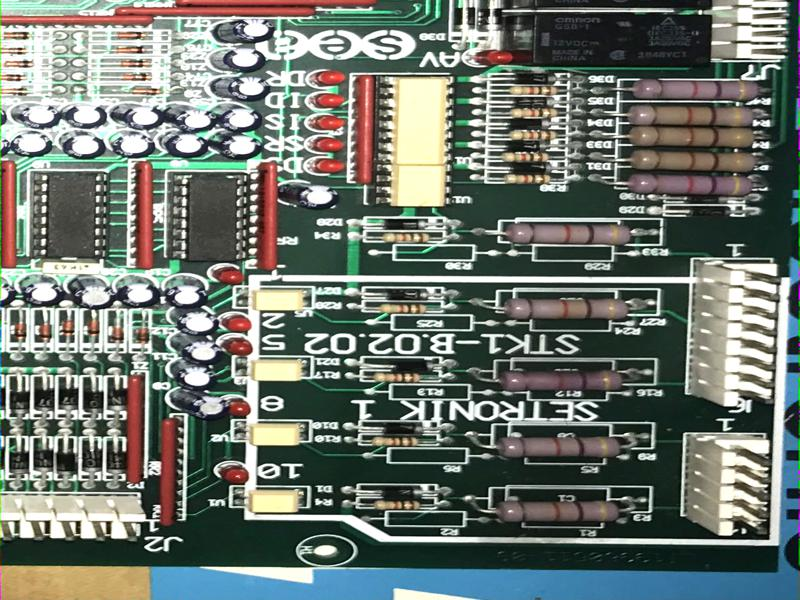Capacitor: (276, 180, 339, 212), (167, 388, 229, 420), (66, 273, 116, 311), (169, 332, 222, 364), (162, 102, 216, 133), (210, 75, 272, 102), (110, 101, 165, 131), (212, 17, 273, 44), (209, 130, 263, 160), (19, 272, 64, 308), (115, 274, 161, 309), (59, 129, 107, 162), (168, 305, 219, 336), (212, 102, 263, 132), (163, 274, 209, 307), (168, 359, 215, 391), (11, 101, 61, 131), (159, 131, 210, 159), (209, 47, 266, 72), (109, 129, 156, 159), (61, 103, 108, 130), (10, 130, 54, 158)
Diode: (674, 204, 739, 220), (451, 1, 476, 36), (370, 287, 435, 300), (378, 358, 438, 372), (370, 422, 429, 436), (368, 486, 427, 500), (480, 2, 504, 33), (106, 384, 129, 416), (106, 441, 126, 477), (82, 442, 103, 476), (34, 444, 55, 478), (498, 119, 557, 131), (504, 72, 562, 84), (7, 447, 31, 476), (679, 194, 732, 207), (33, 383, 54, 415), (500, 96, 560, 107), (55, 447, 76, 478), (375, 218, 429, 230), (11, 384, 31, 416), (82, 386, 103, 416), (501, 163, 558, 174), (58, 384, 78, 414), (502, 140, 555, 151), (35, 314, 52, 343), (112, 44, 152, 56), (84, 314, 100, 344), (132, 321, 149, 349), (60, 313, 75, 344), (109, 315, 125, 344), (109, 31, 153, 41), (1, 44, 34, 56), (1, 31, 39, 41), (116, 59, 152, 69), (117, 72, 152, 82), (1, 59, 38, 68), (127, 87, 164, 96), (1, 86, 32, 96), (15, 315, 26, 343), (1, 72, 28, 82)
LED: (468, 48, 514, 66), (209, 263, 245, 286), (217, 462, 250, 484), (306, 91, 345, 109), (307, 114, 346, 132), (308, 134, 344, 153), (309, 70, 346, 88), (221, 312, 252, 333), (309, 158, 345, 176), (222, 335, 252, 356), (224, 397, 252, 418)
Resistor: (489, 428, 625, 466), (500, 289, 630, 326), (496, 367, 627, 397), (492, 494, 621, 524), (504, 219, 630, 249), (626, 76, 765, 103), (622, 103, 759, 129), (627, 151, 757, 171), (626, 175, 762, 194), (625, 129, 761, 148), (500, 84, 565, 95), (368, 435, 423, 447), (508, 107, 559, 119), (375, 232, 435, 242), (500, 174, 554, 185), (369, 372, 423, 383), (368, 304, 433, 313), (371, 500, 425, 510), (499, 152, 552, 162), (506, 130, 559, 140)
